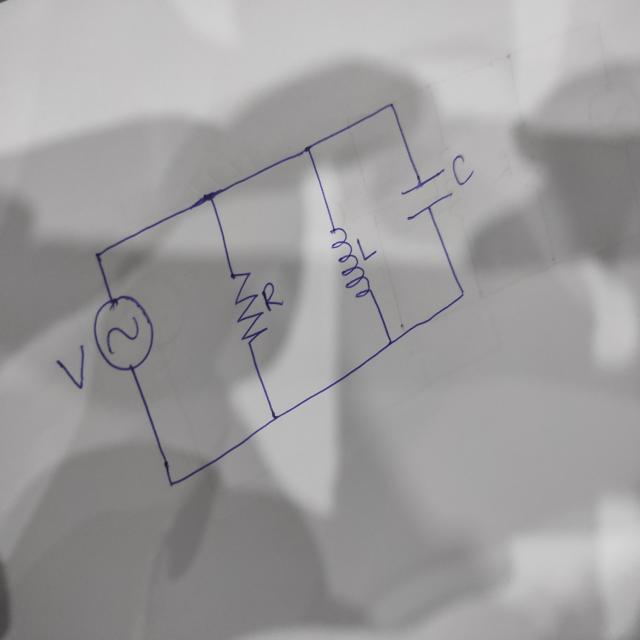capacitor: (395, 167, 453, 221)
inductor: (328, 224, 371, 300)
junction: (200, 184, 220, 208), (379, 330, 397, 351), (91, 246, 105, 266), (166, 475, 177, 489), (269, 411, 280, 424), (457, 285, 467, 299), (386, 98, 396, 111), (303, 141, 312, 155)
resistor: (228, 268, 268, 346)
source: (91, 294, 158, 372)
text: (55, 342, 86, 391), (450, 152, 476, 187), (260, 280, 284, 313), (355, 235, 377, 260)
